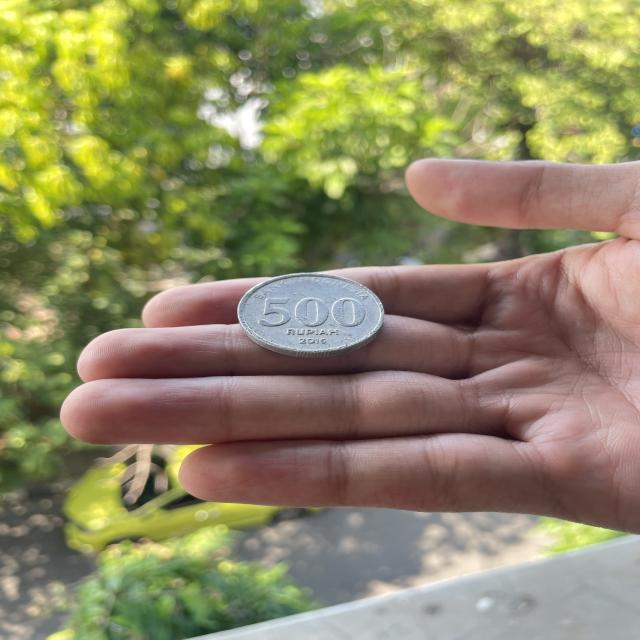500-silver: (230, 268, 394, 364)
